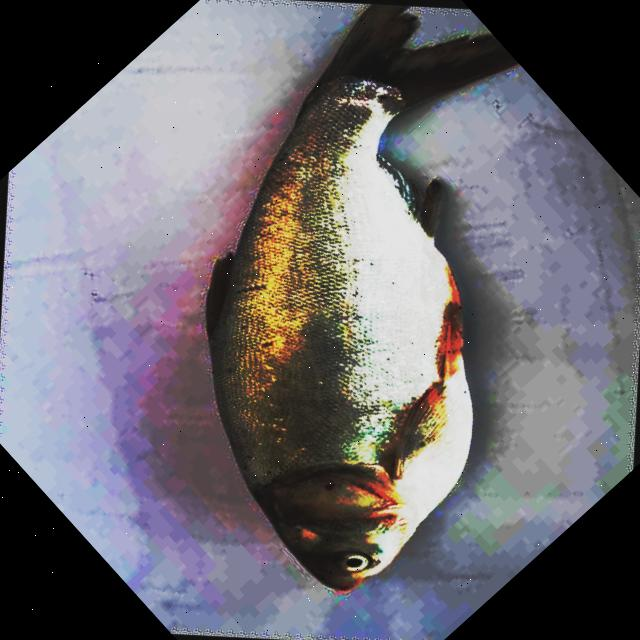Healthy Fish: (206, 6, 516, 590)
